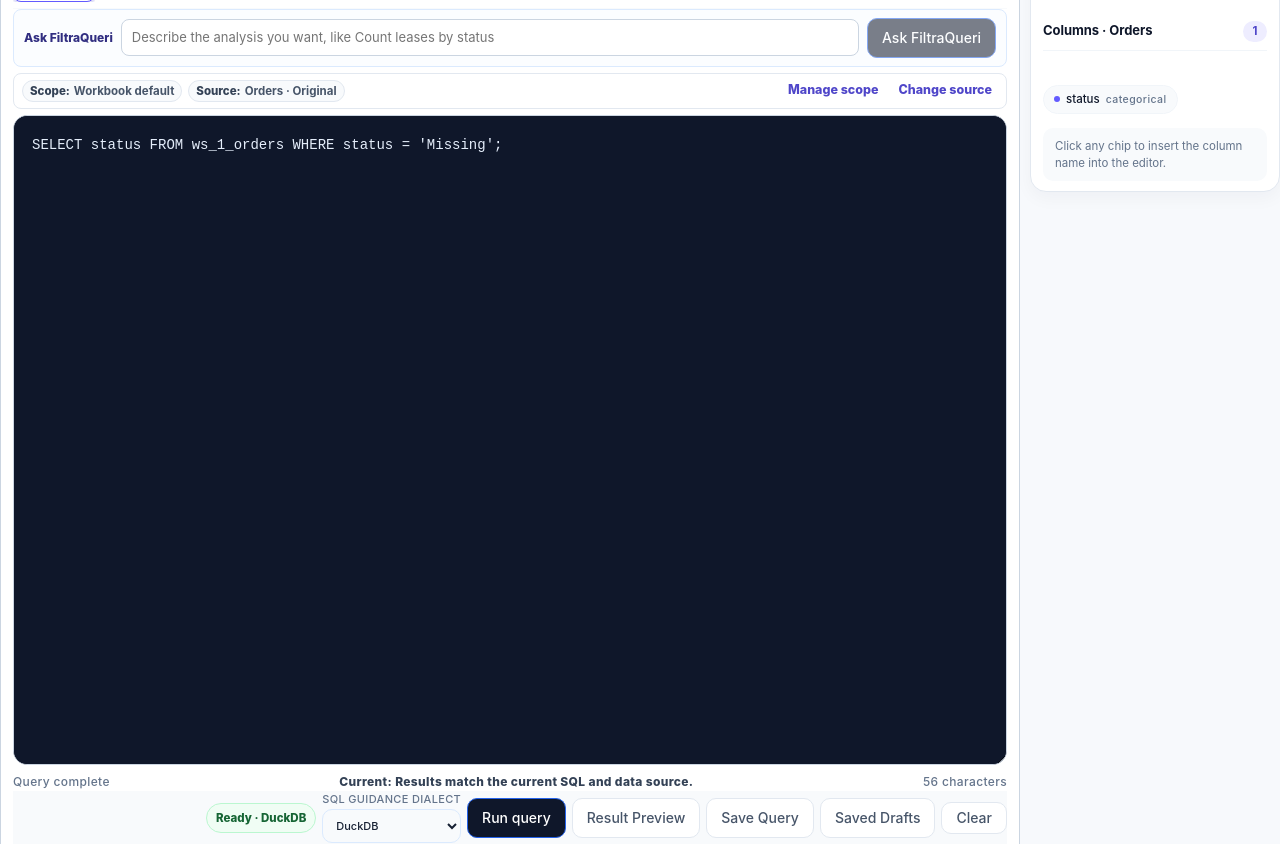
SQL execution truthfulness UI › shows failed for the latest matching failure and stale after editing the failed SQL
(page scrolled)
Replace the text in the text box named "SQL query text" with "SELECT missing_column FROM ws_1_orders;". click: (510, 440)
box: [14,116,1006,764]
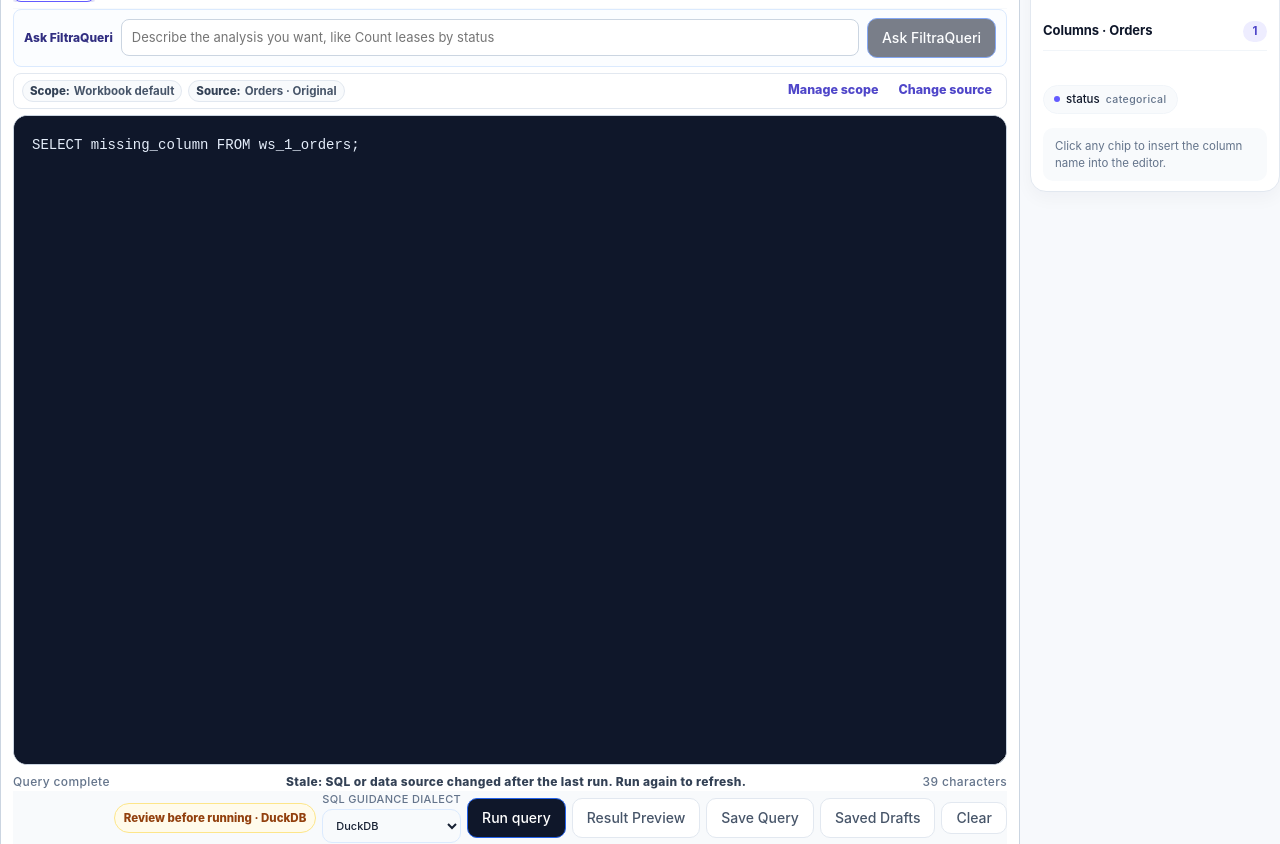
Click the button "Run query". click: (516, 818)
box: [467,798,566,838]
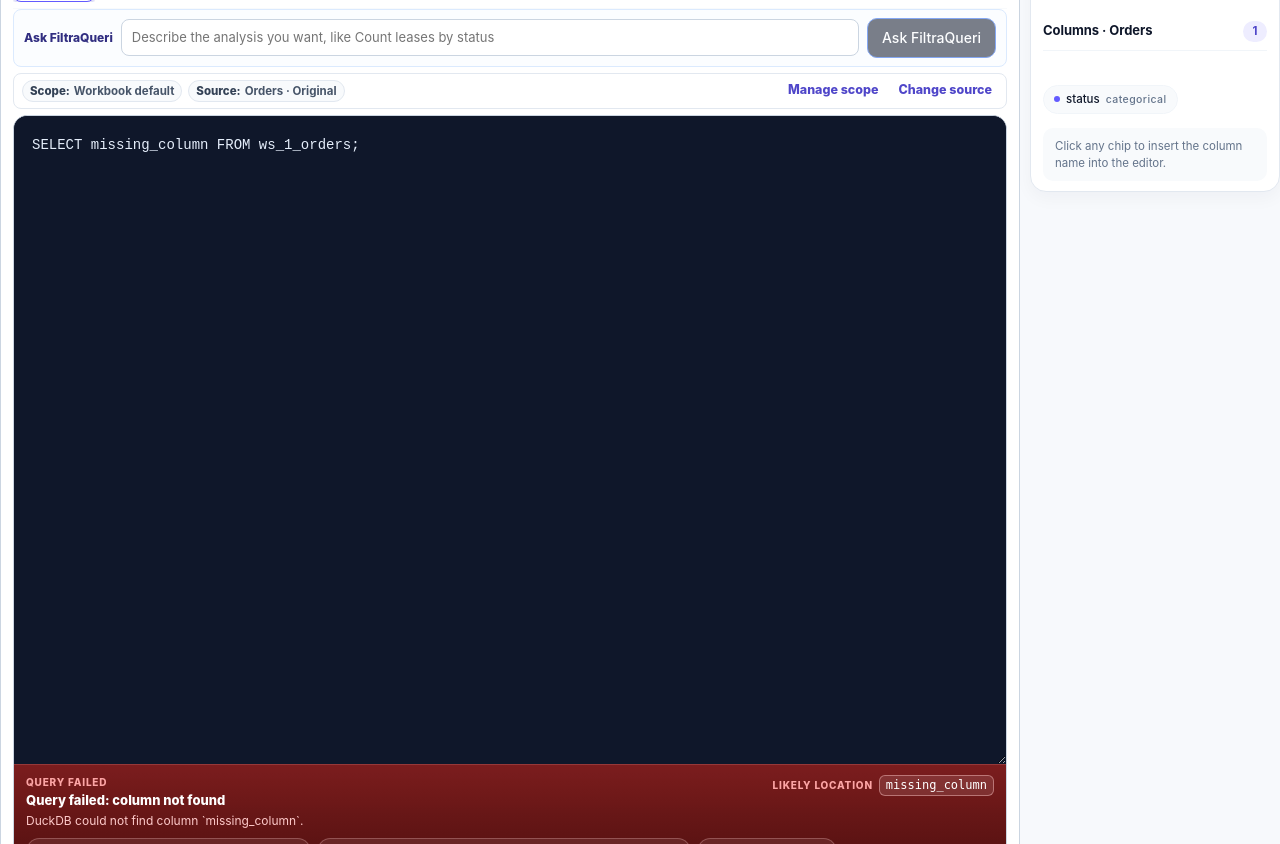
Replace the text in the text box named "SQL query text" with "SELECT another_missing_column FROM ws_1_orders;". click: (510, 440)
box: [14,116,1006,764]
(page scrolled)
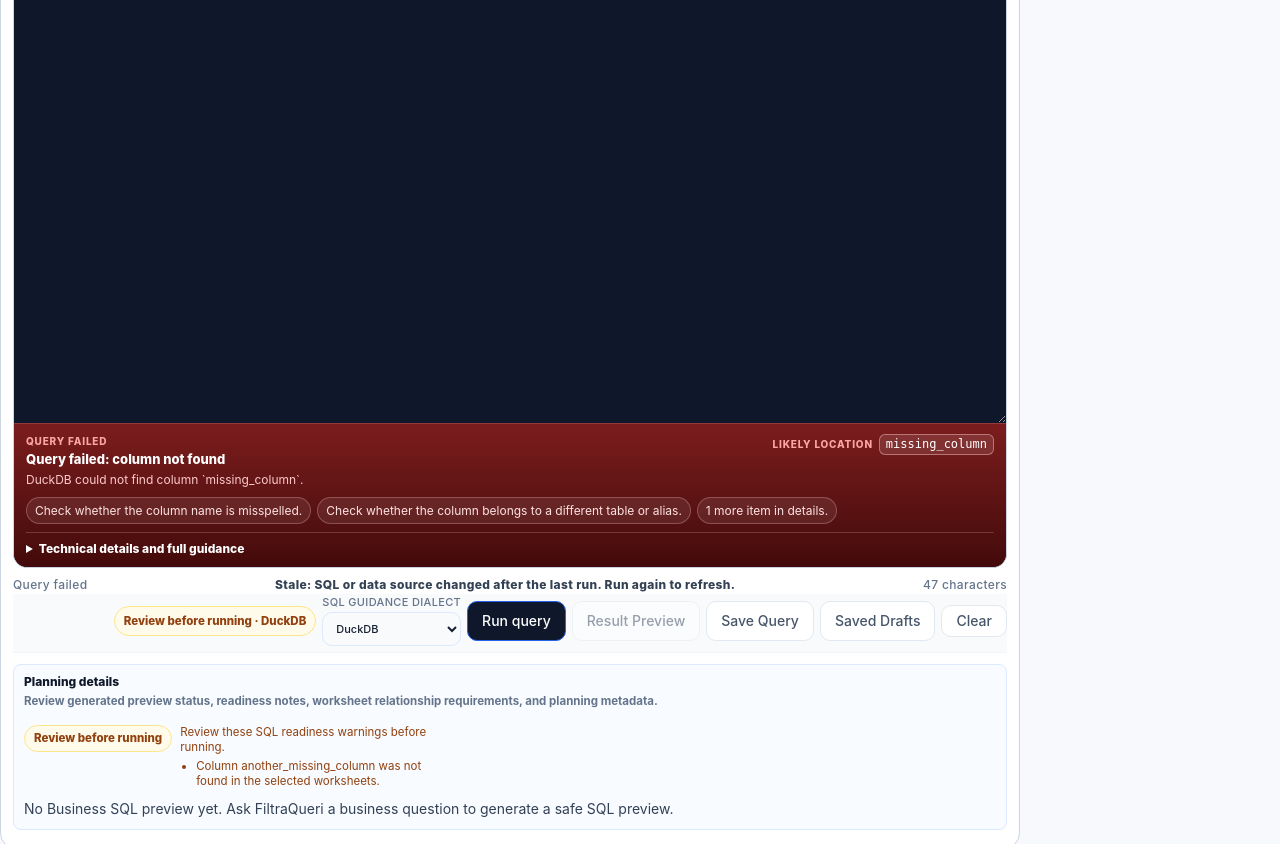
Expected: the text named "SQL execution status" shows "Stale", [275,578,307,592]
